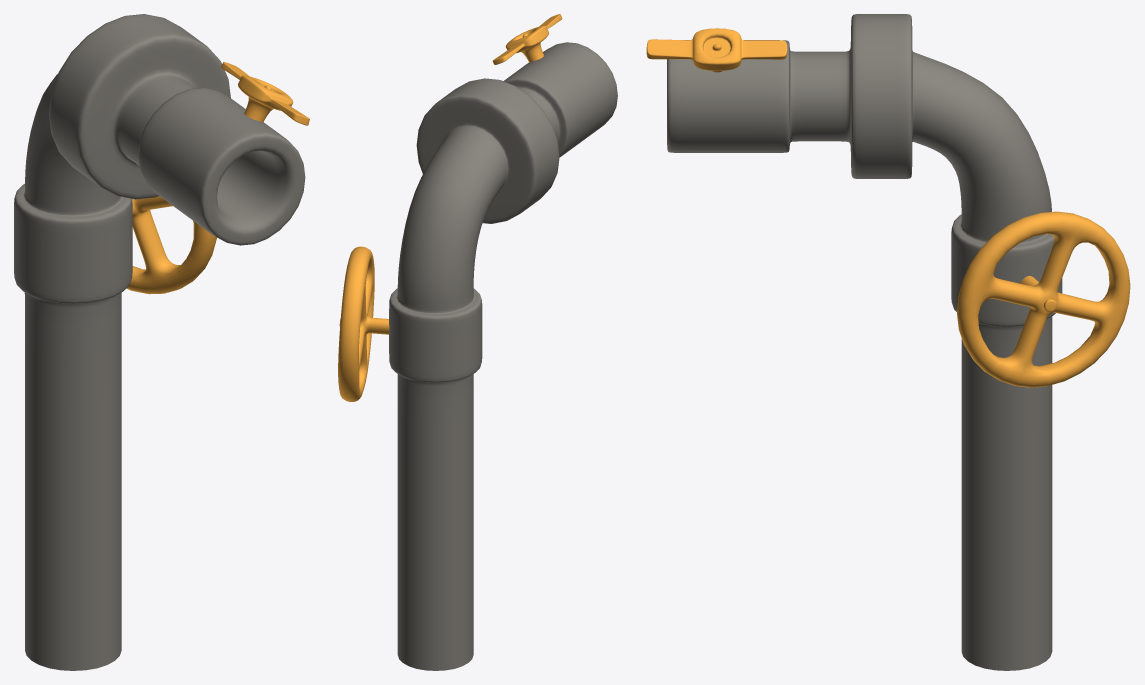
Rendered from Hydrant.fbx.
The picture shows the model from 3 angles, left to right: view 1: azimuth 30°, elevation 25°; view 2: azimuth 150°, elevation 25°; view 3: azimuth 270°, elevation 25°; orthographic projection. The views are drawn at different scales.
Visible parts, largest first — view 1: Pipe, LargeValve, SmallValve; view 2: Pipe, LargeValve, SmallValve; view 3: Pipe, LargeValve, SmallValve.
Boxes of the visible parts, bbox=[...] form: Pipe: bbox=[14, 14, 305, 670]; LargeValve: bbox=[126, 196, 216, 294]; SmallValve: bbox=[221, 62, 309, 125]; Pipe: bbox=[389, 42, 617, 670]; LargeValve: bbox=[338, 246, 389, 401]; SmallValve: bbox=[492, 14, 562, 64]; Pipe: bbox=[667, 14, 1062, 670]; LargeValve: bbox=[957, 211, 1130, 387]; SmallValve: bbox=[646, 28, 787, 72].
Size of the model in its own units: 83.08 by 269 by 186.
